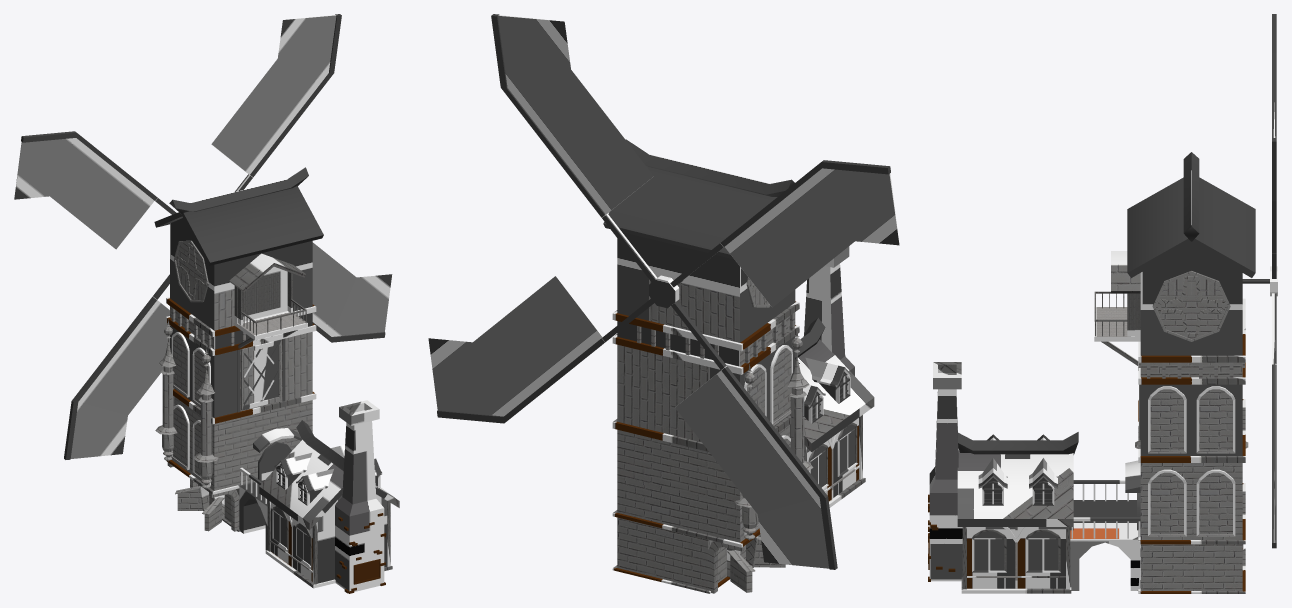
The picture shows the model from 3 angles, left to right: view 1: azimuth 30°, elevation 25°; view 2: azimuth 150°, elevation 25°; view 3: azimuth 270°, elevation 25°; orthographic projection. The views are drawn at different scales.
Parts seen in each view (by area): view 1: Base; view 2: Base; view 3: Base.
Boxes of the visible parts, box(x1,y1,x2,y2) form: Base: box(14, 14, 399, 593); Base: box(428, 14, 899, 593); Base: box(928, 14, 1277, 593).
Size of the model in its own units: 454 by 508 by 316.
